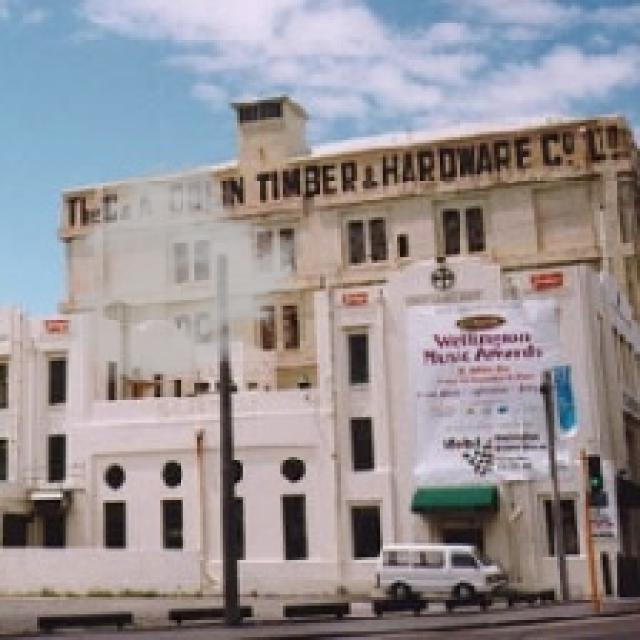Smoke: (57, 157, 314, 386)
